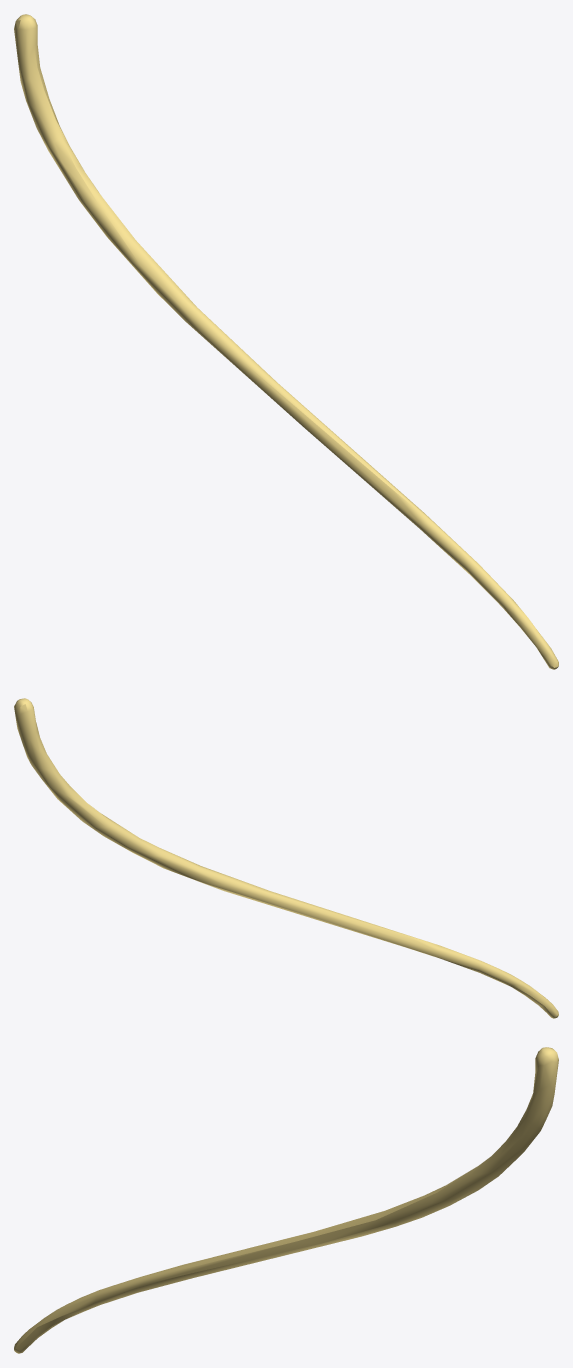
Rendered from fma53077_fj3963.glb.
3 views of the same model, one above another, from view 1: azimuth 90°, elevation 25°; view 2: azimuth 150°, elevation 25°; view 3: azimuth 270°, elevation 25° (orthographic). The views are drawn at different scales.
Visible parts, largest first — view 1: FMA53077_FJ3963; view 2: FMA53077_FJ3963; view 3: FMA53077_FJ3963.
Boxes of the visible parts, <box> form: FMA53077_FJ3963: <box>14,14,558,669</box>; FMA53077_FJ3963: <box>14,698,558,1018</box>; FMA53077_FJ3963: <box>14,1047,558,1353</box>.
Bounding box in the file's own units: 0.0104 × 0.0128 × 0.0132.
